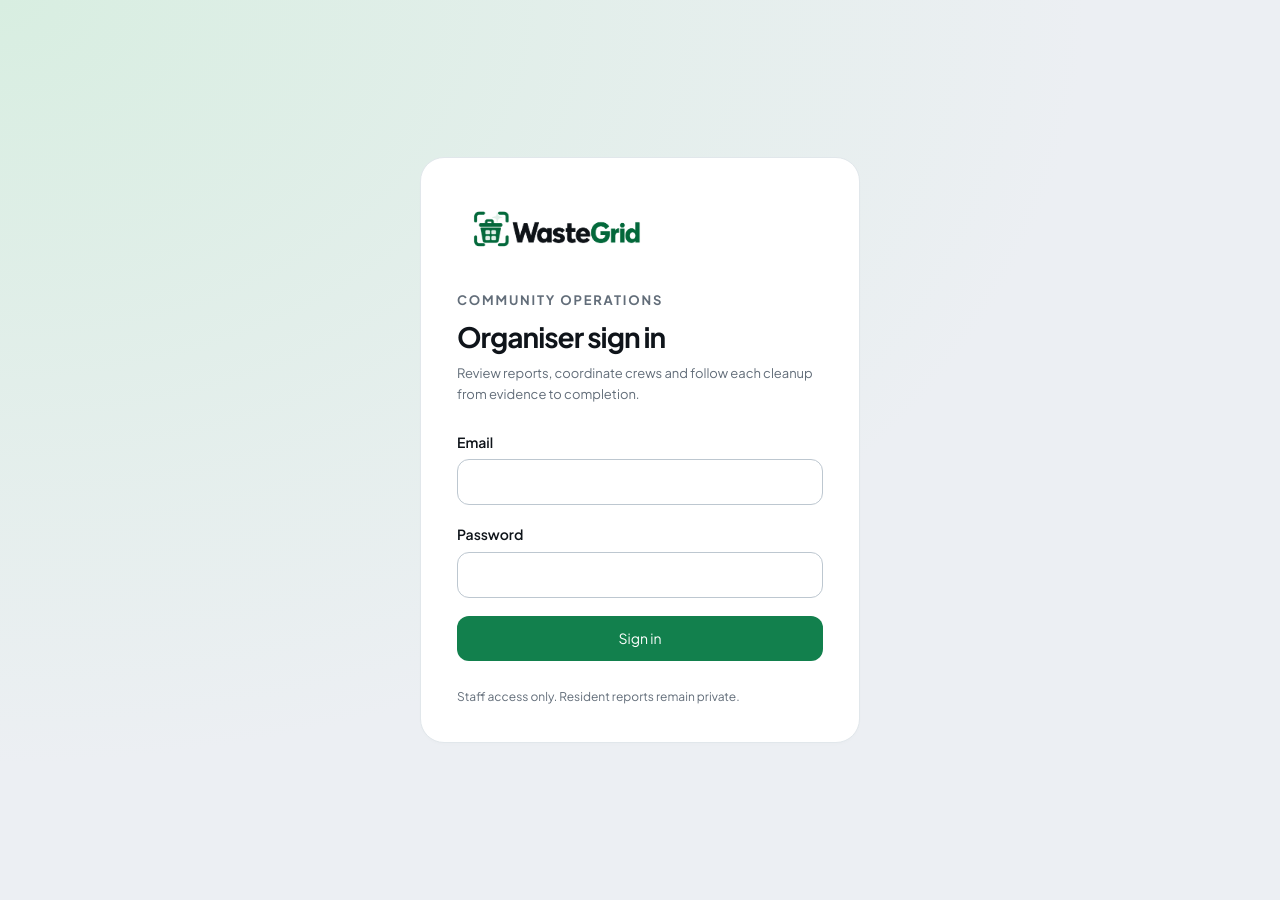
waits for logout to finish before permitting another account login
Type "organizer@example.com" into the field labelled "Email" at [640, 482], box [457,459,823,506]
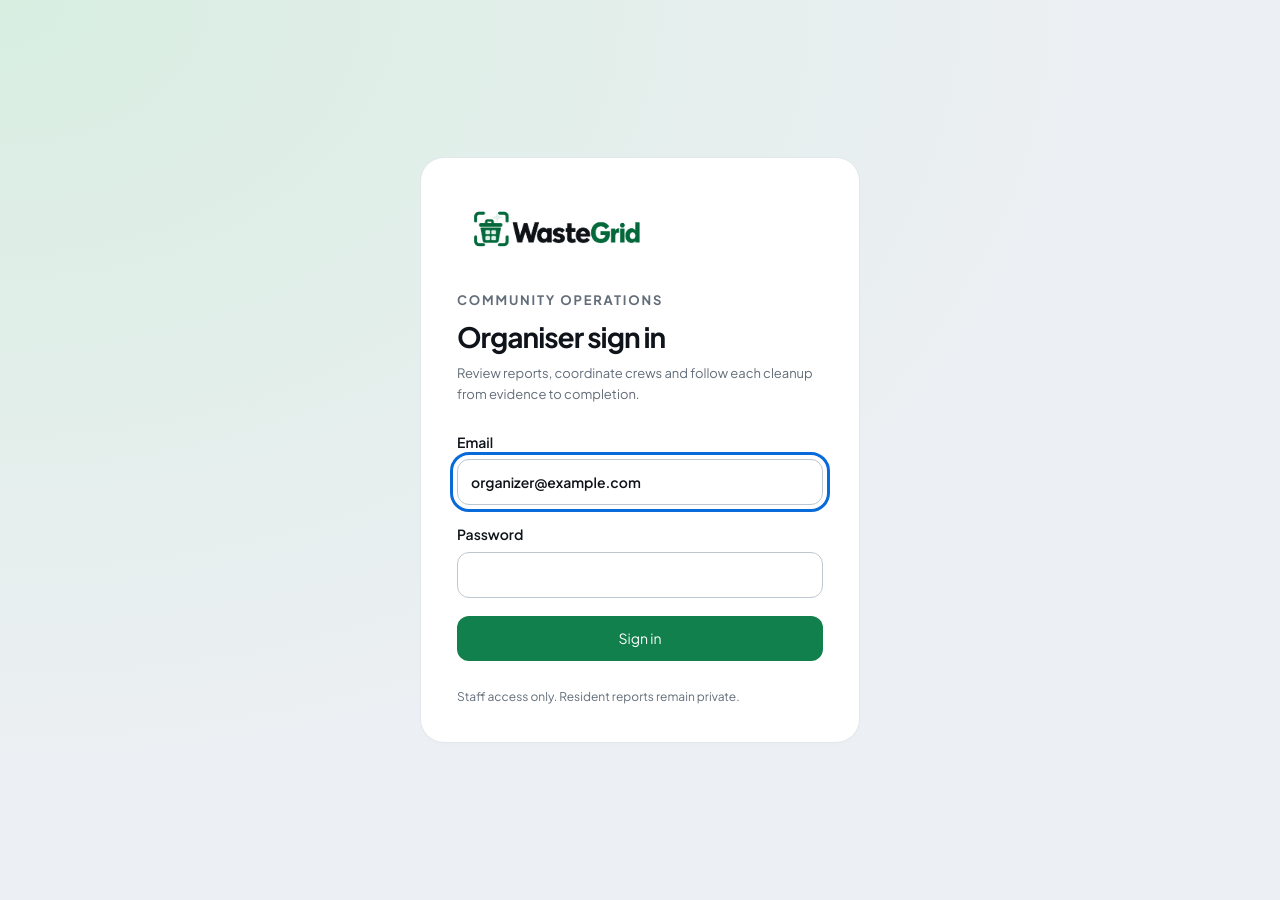
Type "password" into the password field labelled "Password" at [640, 575], box [457,552,823,598]
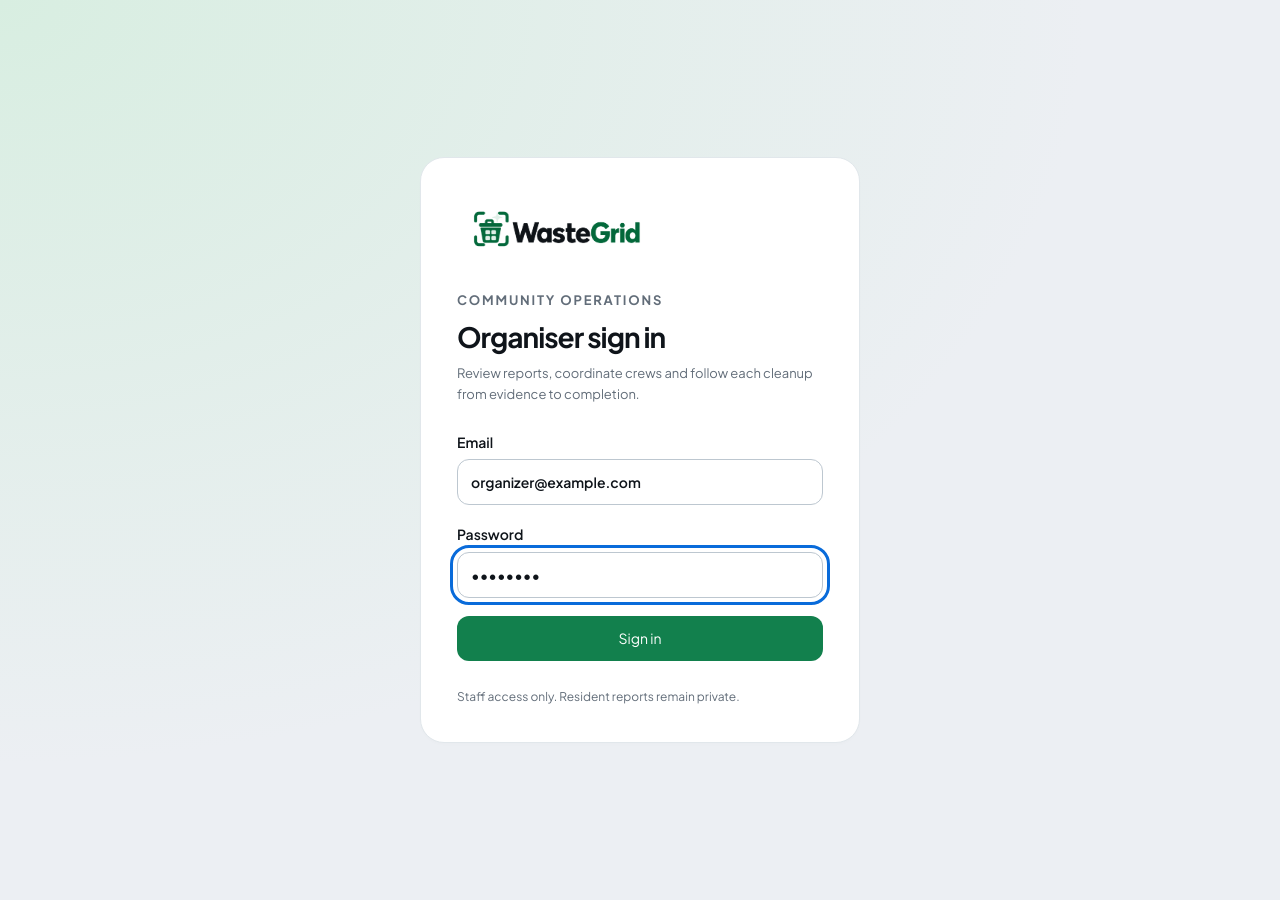
Click the button "Sign in" at [640, 638], box [457,616,823,661]
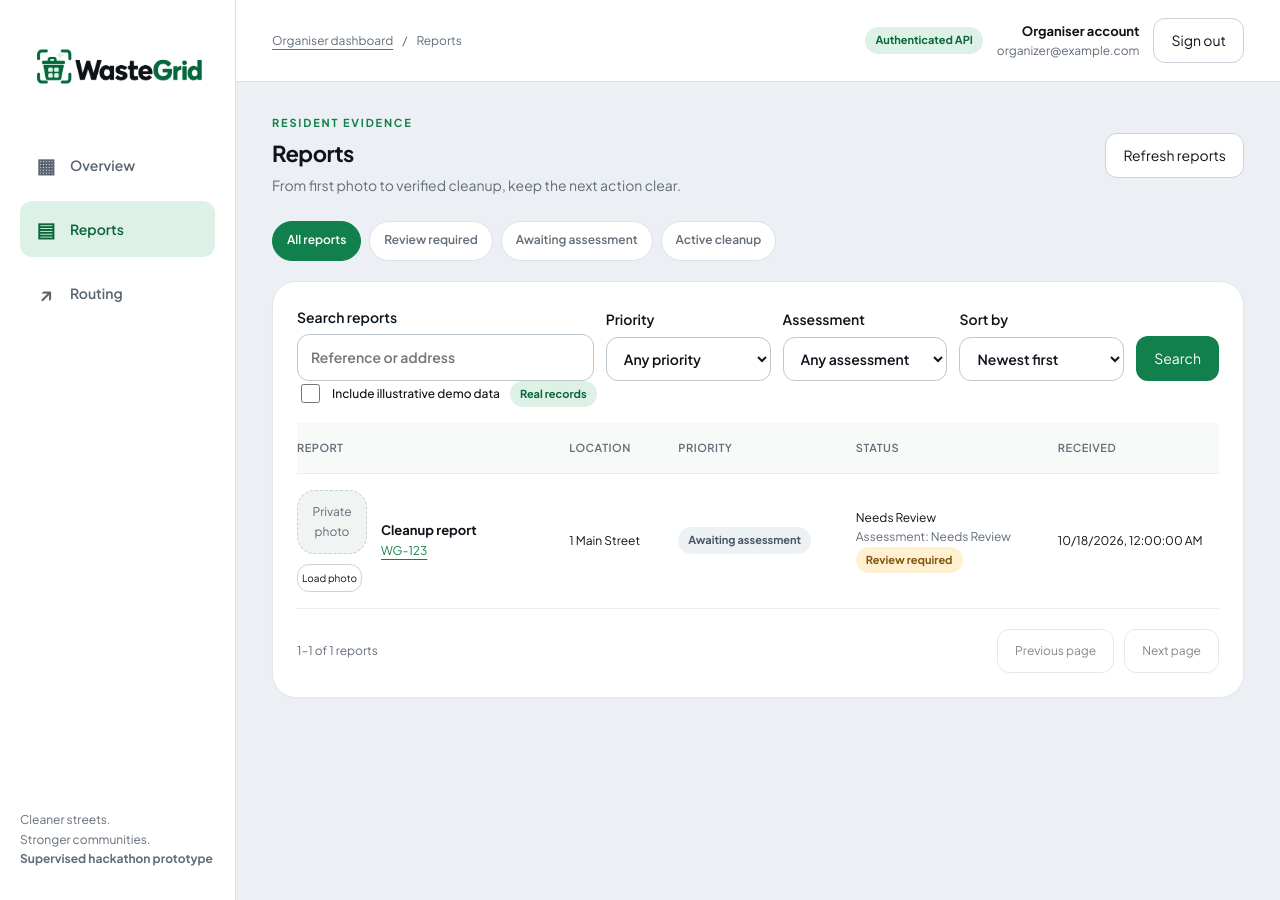
Click the button "Sign out" at [1199, 40], box [1154,18,1244,63]
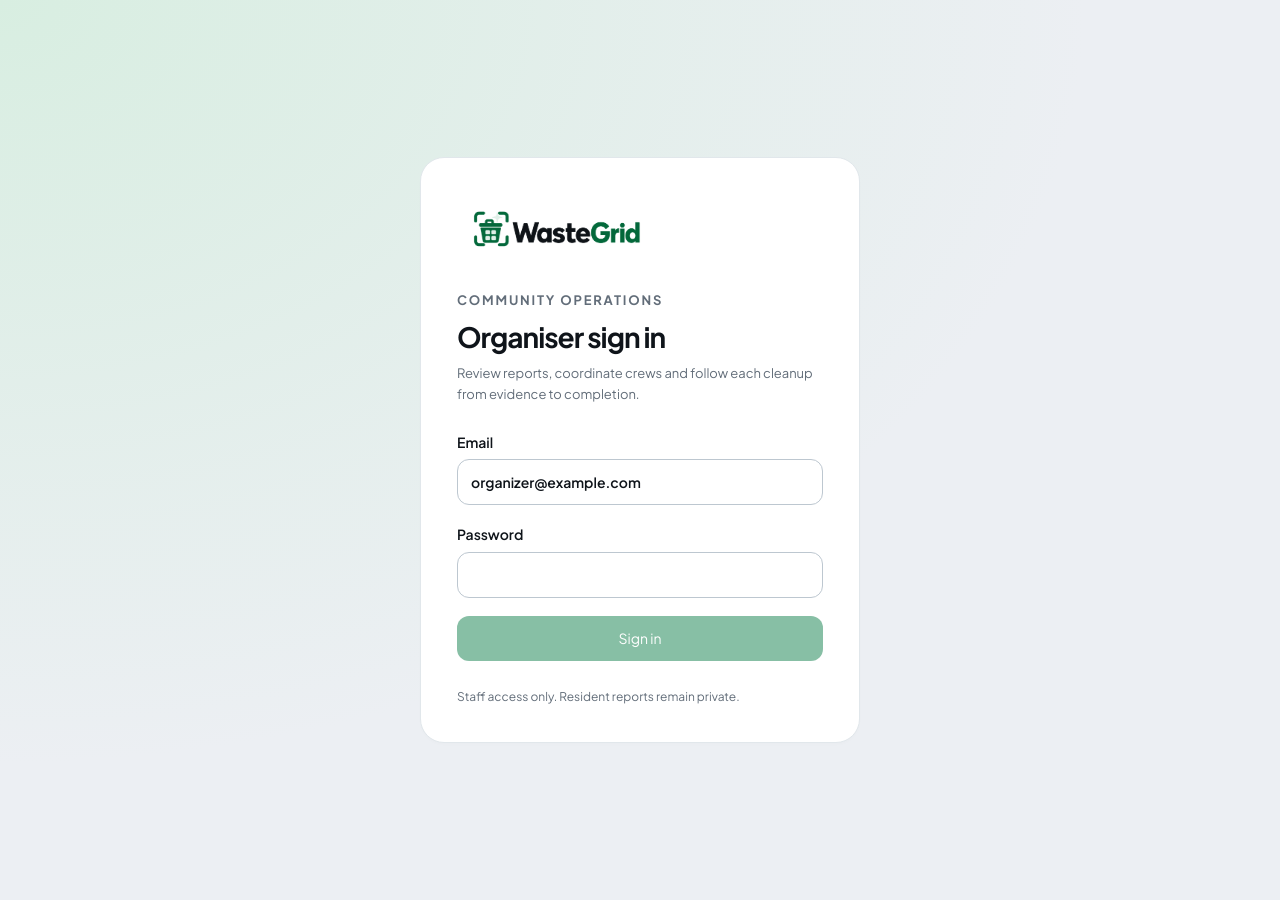
Check: the button "Sign in" is disabled, box [457,616,823,661]
Submit the form labelled "Email", box [457,431,823,661]
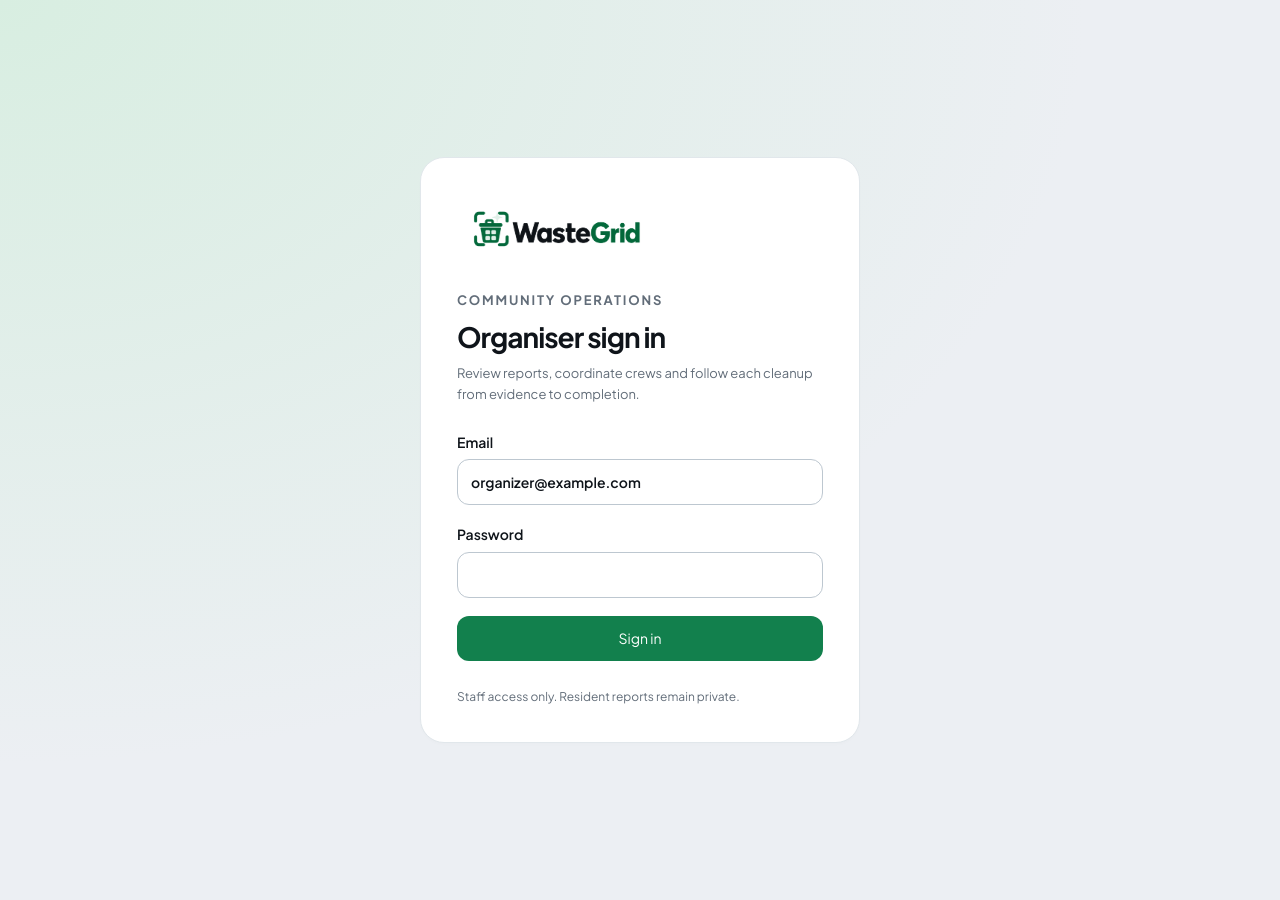
Check: the button "Sign in" is enabled, box [457,616,823,661]
